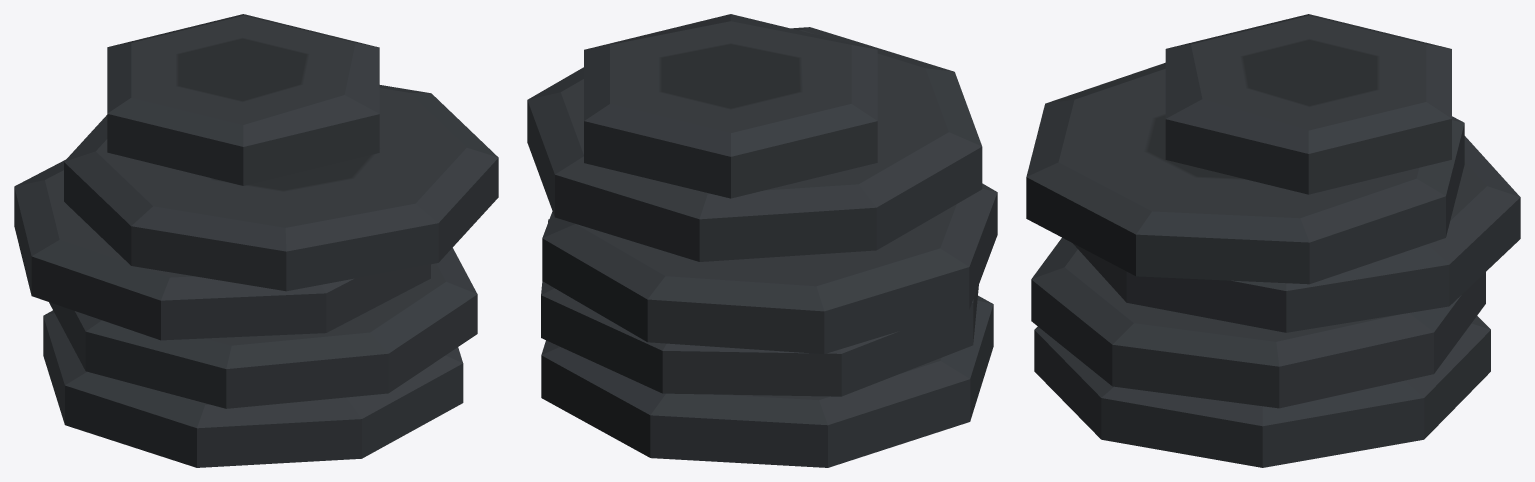
File: SM_Prop_Gym_Weight_Stack_01.glb
3 views of the same model, side by side, from view 1: azimuth 30°, elevation 25°; view 2: azimuth 150°, elevation 25°; view 3: azimuth 270°, elevation 25° (orthographic). The views are drawn at different scales.
Visible parts, largest first — view 1: SM_Prop_Gym_Weight_Stack_01; view 2: SM_Prop_Gym_Weight_Stack_01; view 3: SM_Prop_Gym_Weight_Stack_01.
Part boxes in pixels (x1=…): SM_Prop_Gym_Weight_Stack_01: x1=14, y1=14, x2=498, y2=467; SM_Prop_Gym_Weight_Stack_01: x1=527, y1=14, x2=997, y2=467; SM_Prop_Gym_Weight_Stack_01: x1=1026, y1=14, x2=1520, y2=467.
Size of the model in its own units: 0.4354 by 0.3082 by 0.4378.
Materials: 1 (1 with a texture image).
